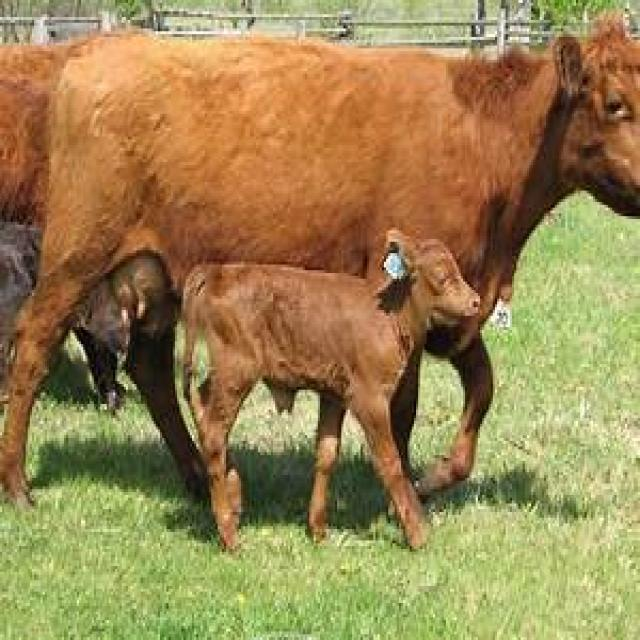cow: (0, 17, 640, 509), (179, 239, 454, 552)
